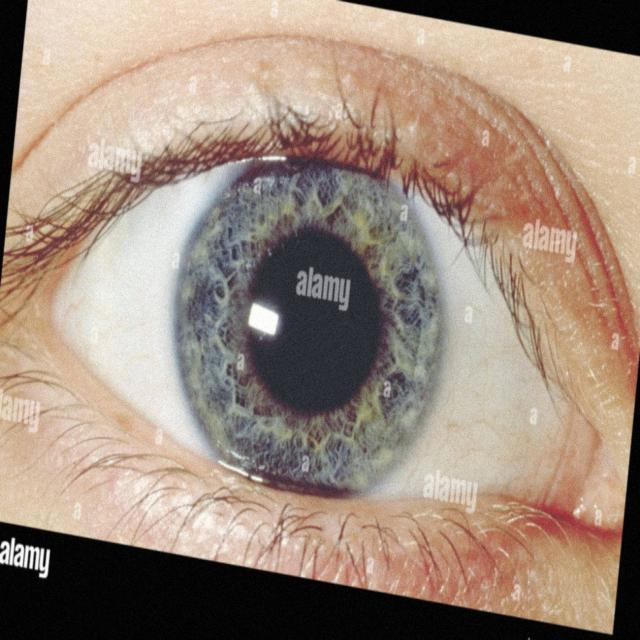Healthy-Eye: (48, 58, 597, 521)
